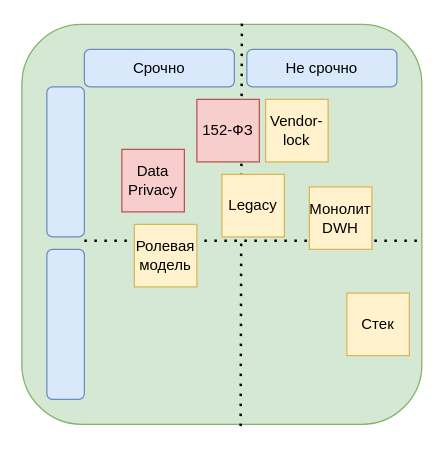
Some shapes in this 445 by 450 pixel diagram are drawn without their labels. The centre of each missing label's shape, as x and y in pixels:
"Важно" belongs at point (65, 161).
"Не важно" belongs at point (65, 323).
